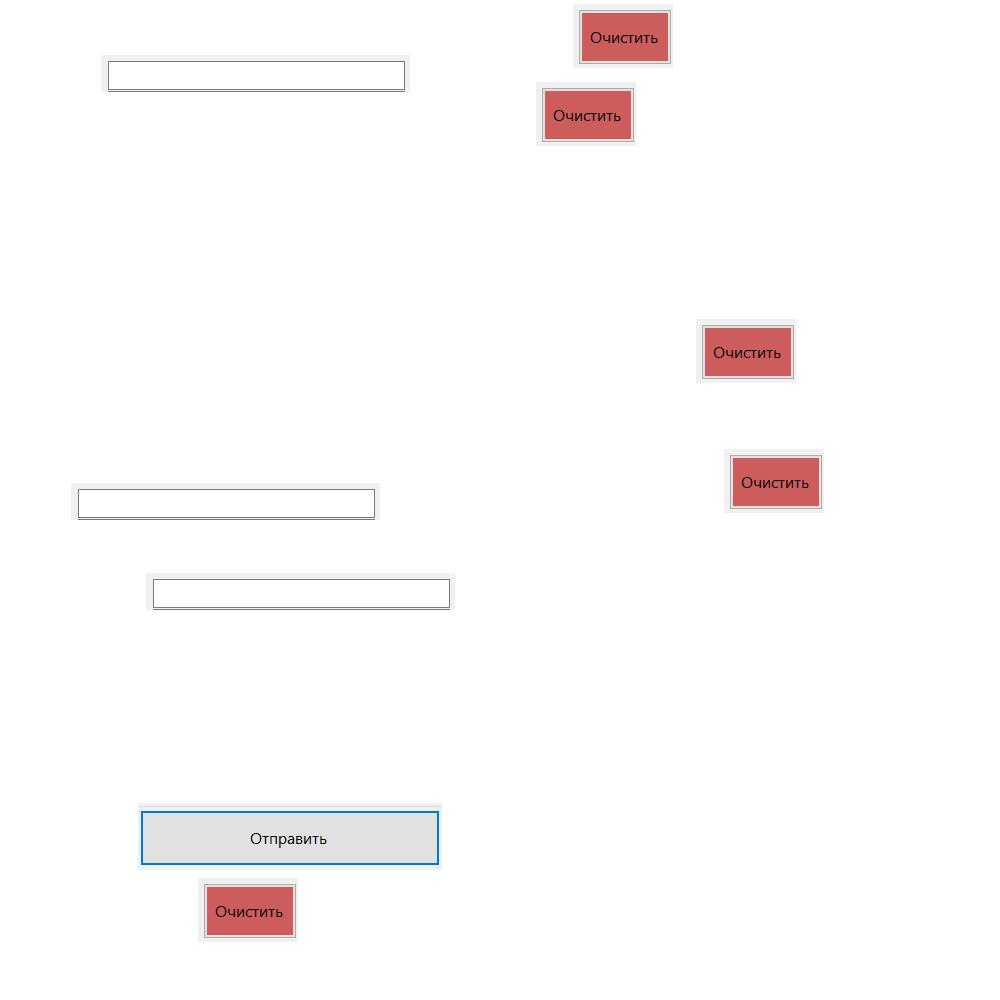Button: (138, 803, 442, 870), (696, 319, 796, 383), (573, 4, 673, 68), (198, 878, 298, 942), (536, 82, 636, 146), (724, 449, 824, 513)
EditText-: (101, 55, 410, 92), (146, 573, 455, 610), (71, 483, 380, 520)
